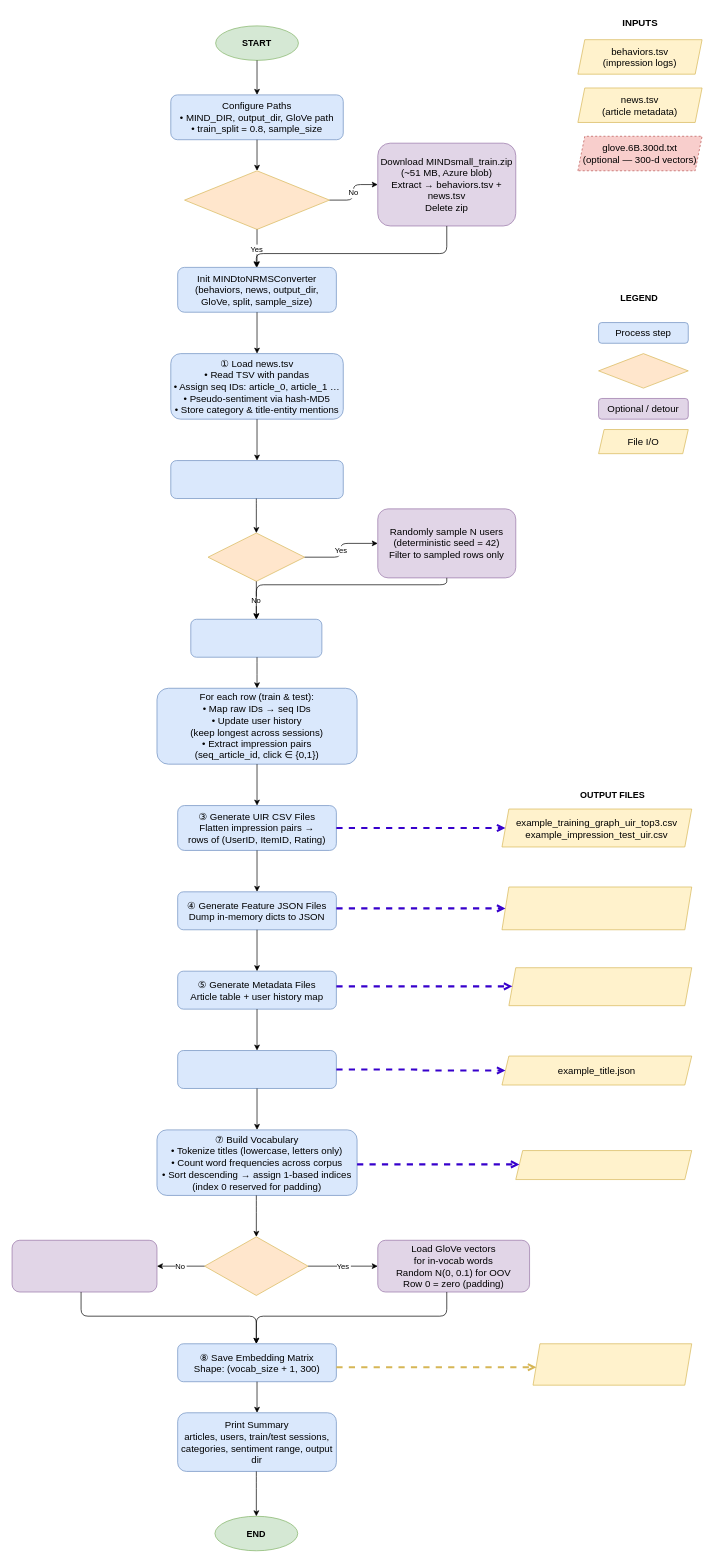
The diagram is 714 pixels wide and 1563 high, and some of its shapes have lost their labels. The shapes that lost their labels are listed below. From the top down, each one's centre as x and y in pixels, then its label:
At point (256, 199): "behaviors.tsv & news.tsv exist?".
At point (643, 370): "Decision".
At point (256, 479): "② Load behaviors.tsv • Assign seq IDs: user_0, user_1 …".
At point (256, 556): "sample_size set?".
At point (256, 638): "Shuffle rows (seed = 42) Split: 80% train / 20% test".
At point (596, 908): "example_sentiment.json example_category.json example_party.json".
At point (600, 986): "example_article.csv example_user_history.json".
At point (256, 1069): "⑥ Generate Title File {article_id: raw_title_text}".
At point (603, 1165): "word_index_dict.json".
At point (84, 1266): "Random N(0, 0.1) for all words (seed = 42) Row 0 = zero (padding)".
At point (256, 1265): "GloVe path set & file exists?".
At point (612, 1364): "embedding_matrix.npy shape: (vocab_size + 1, 300)".
